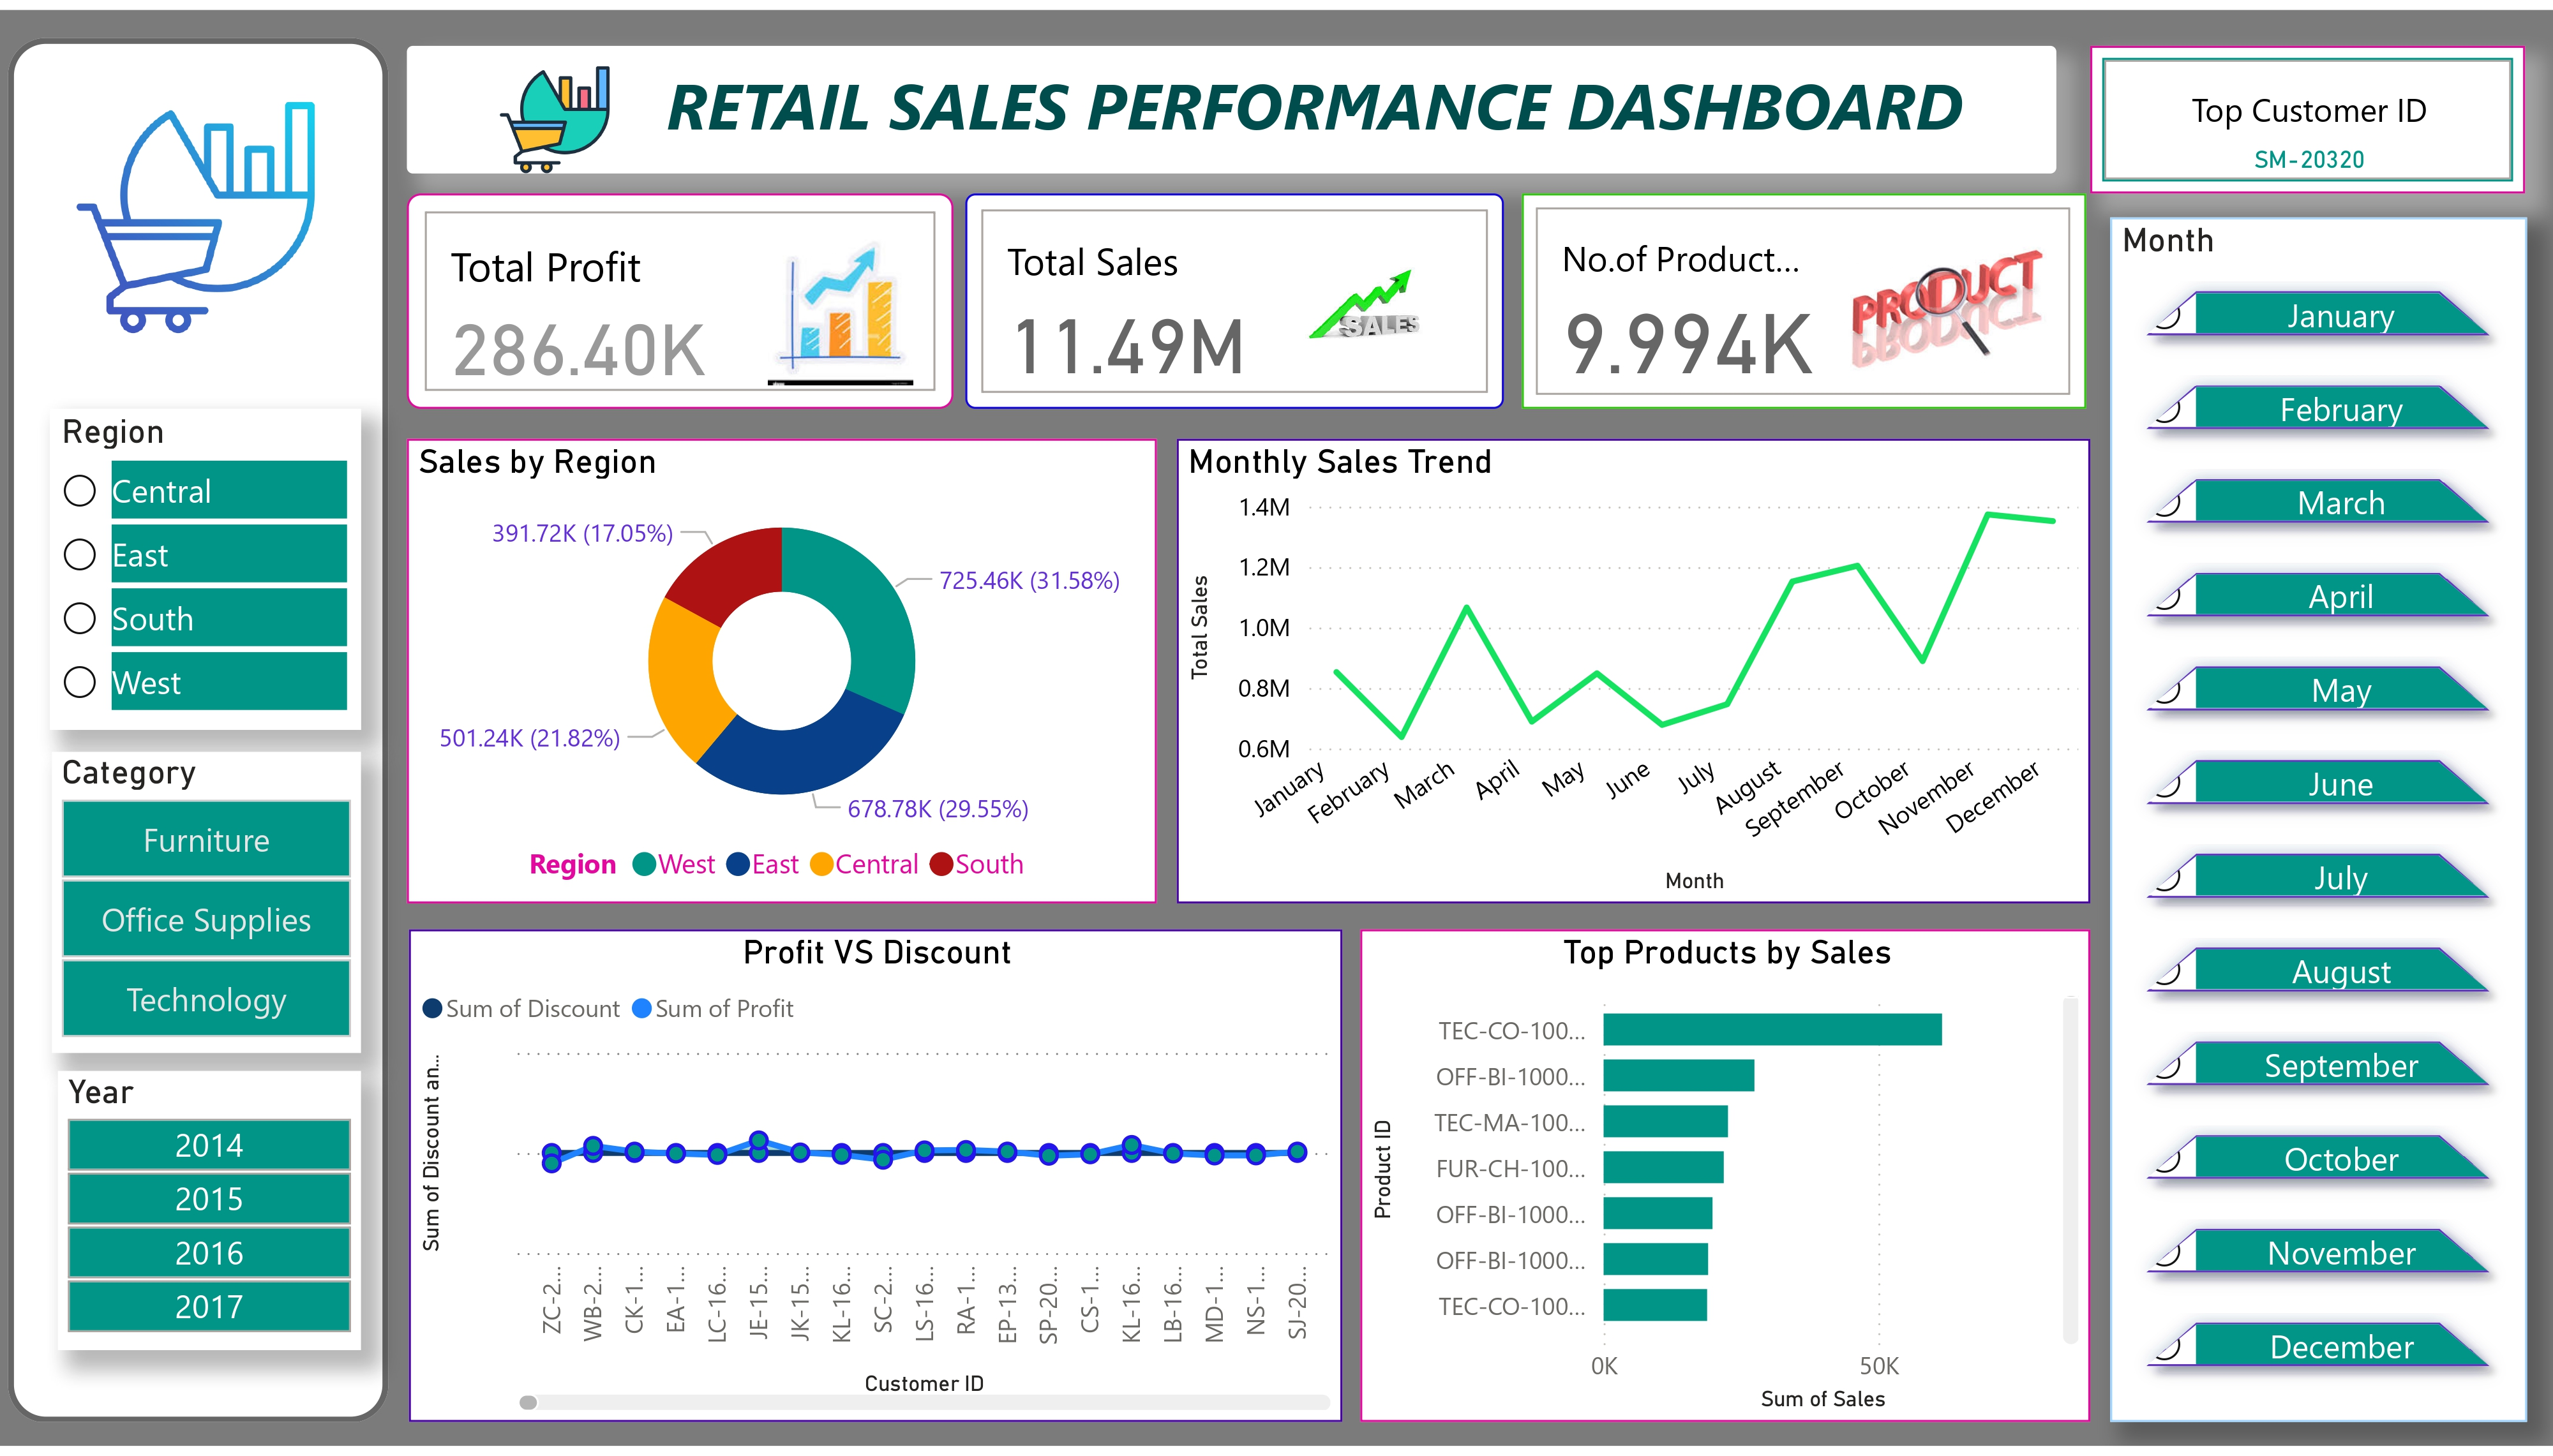

The page's visual inventory and layout, read from the dashboard file:
{"tool":"powerbi","page":{"name":"Page 3","canvas":[1280,720],"ordinal":2},"visuals":[{"type":"shape","box":[4.1,13.7,190.7,694.3],"z":0},{"type":"listSlicer","fields":{"Values":["Sales_Data_New.Region"]},"box":[24.7,200.3,156.4,160.5],"z":1000},{"type":"listSlicer","fields":{"Values":["Sales_Data_New.Category"]},"box":[26.1,371.9,155.1,150.9],"z":2000},{"type":"listSlicer","fields":{"Values":["Sales_Data_New.Order Date.Variation.Date Hierarchy.Year"]},"box":[28.8,532.4,152.3,140],"z":3000},{"type":"textbox","box":[204.5,17.8,827.4,64.5],"z":4000},{"type":"cardVisual","fields":{"Data":["Sum(Sales_Data_New.Profit)"]},"box":[204.5,91.9,274.4,108.4],"z":5000},{"type":"cardVisual","fields":{"Data":["Sales_Data_New.Total Sales"]},"box":[484.4,91.9,270.3,108.4],"z":6000},{"type":"cardVisual","fields":{"Data":["CountNonNull(Sales_Data_New.Product ID)"]},"box":[763,91.9,282.7,108.4],"z":7000},{"type":"barChart","title":"Top Products by Sales ","fields":{"Category":["Sales_Data_New.Product ID"],"Y":["Sum(Sales_Data_New.Sales)"]},"box":[682,461.1,366.4,247],"z":8000},{"type":"lineChart","title":"Profit VS Discount","fields":{"Y":["Sum(Sales_Data_New.Discount)","Sum(Sales_Data_New.Profit)"],"Category":["Sales_Data_New.Customer ID"]},"box":[205.1,460.9,468.1,247.3],"z":9000},{"type":"lineChart","title":"Monthly Sales Trend ","fields":{"Category":["Sales_Data_New.Order Date.Variation.Date Hierarchy.Month"],"Y":["Sales_Data_New.Total Sales"]},"box":[590.1,215.4,458.3,233.3],"z":10000},{"type":"image","box":[15.1,28.8,166,149.6],"z":11000},{"type":"donutChart","fields":{"Category":["Sales_Data_New.Region"],"Y":["Sum(Sales_Data_New.Sales)"]},"box":[204.5,215.4,376,233.3],"z":12000},{"type":"listSlicer","fields":{"Values":["Sales_Data_New.Order Date.Variation.Date Hierarchy.Month"]},"box":[1058,104.3,208.6,603.8],"z":13000},{"type":"image","box":[215.4,17.8,126.2,74.1],"z":14000},{"type":"cardVisual","title":"Top Customer","fields":{"Data":["Sales_Data_New.Top Customer ID"]},"box":[1048.4,17.8,218.2,74.1],"z":15000}]}

Visuals, with their boxes in screenshot pixels (x1, y1, x2, y2), scaled from the page's 1280x720 canvas onto the 2553x1456 screenshot:
shape: rect(8, 27, 389, 1432)
listSlicer - Sales_Data_New.Region: rect(49, 405, 361, 730)
listSlicer - Sales_Data_New.Category: rect(52, 752, 361, 1057)
listSlicer - Sales_Data_New.Order Date.Variation.Date Hierarchy.Year: rect(57, 1076, 361, 1360)
textbox: rect(408, 36, 2058, 167)
cardVisual - Sum(Sales_Data_New.Profit): rect(408, 186, 955, 405)
cardVisual - Sales_Data_New.Total Sales: rect(966, 186, 1505, 405)
cardVisual - CountNonNull(Sales_Data_New.Product ID): rect(1522, 186, 2086, 405)
"Top Products by Sales " barChart: rect(1360, 932, 2091, 1432)
"Profit VS Discount" lineChart: rect(409, 932, 1343, 1432)
"Monthly Sales Trend " lineChart: rect(1177, 436, 2091, 907)
image: rect(30, 58, 361, 360)
donutChart - Sales_Data_New.Region x Sum(Sales_Data_New.Sales): rect(408, 436, 1158, 907)
listSlicer - Sales_Data_New.Order Date.Variation.Date Hierarchy.Month: rect(2110, 211, 2526, 1432)
image: rect(430, 36, 682, 186)
"Top Customer" cardVisual: rect(2091, 36, 2526, 186)
